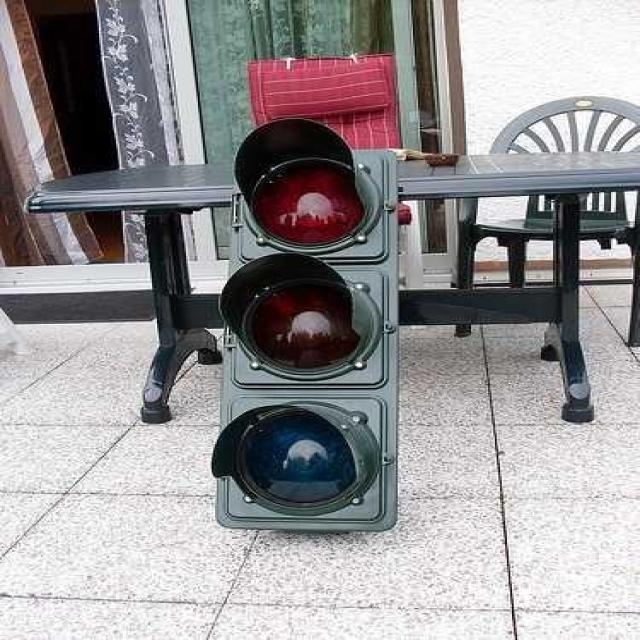Traffic Light -Off-: (210, 119, 413, 551)
